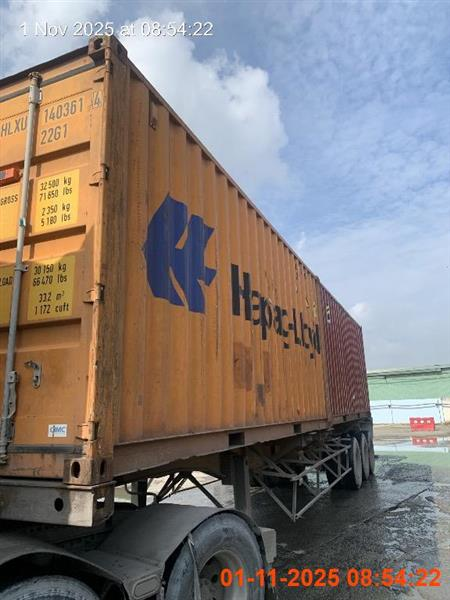broken: (1, 33, 377, 598), (1, 34, 377, 598)
